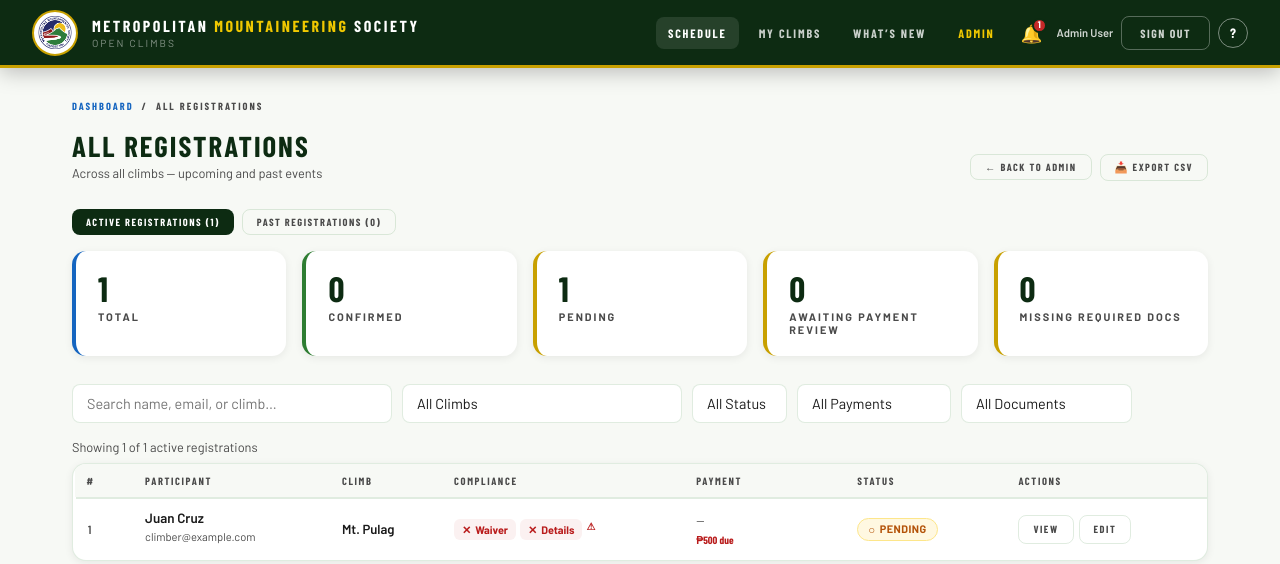
Test: Admin AllRegistrations › shows the fee breakdown for a registrant when expanded
Click the text "Juan Cruz": (174, 518) left=145, top=510, right=204, bottom=526
(page scrolled)
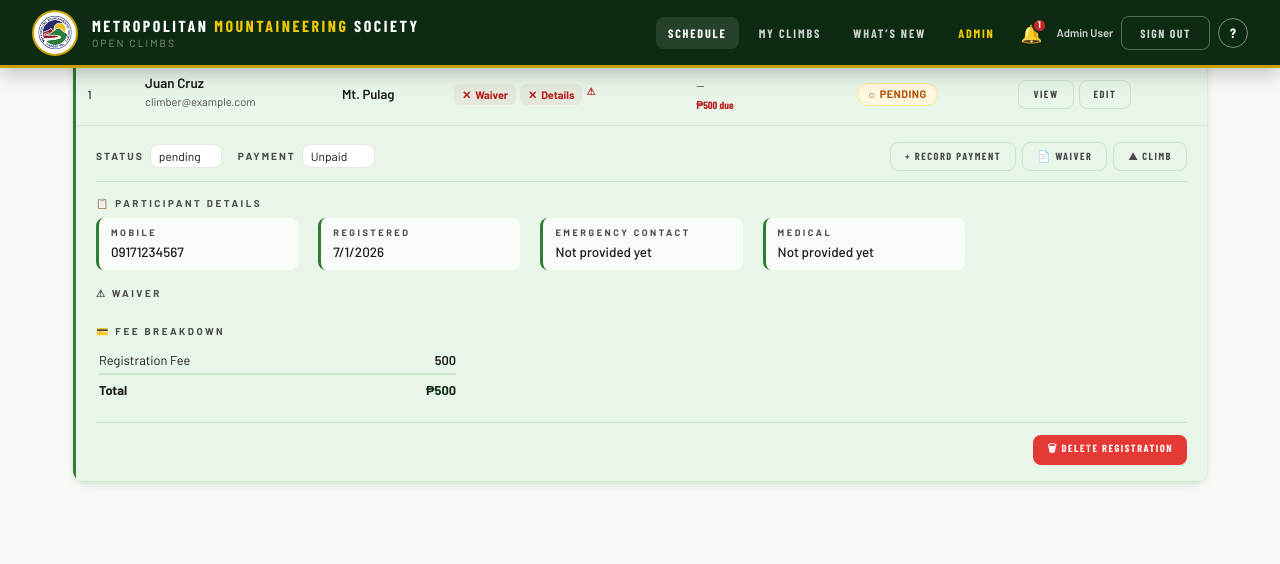
Check: the text "💳 Fee Breakdown" is shown, box left=96, top=326, right=225, bottom=338
Check: the text "Registration Fee" is shown, box left=98, top=347, right=368, bottom=374
